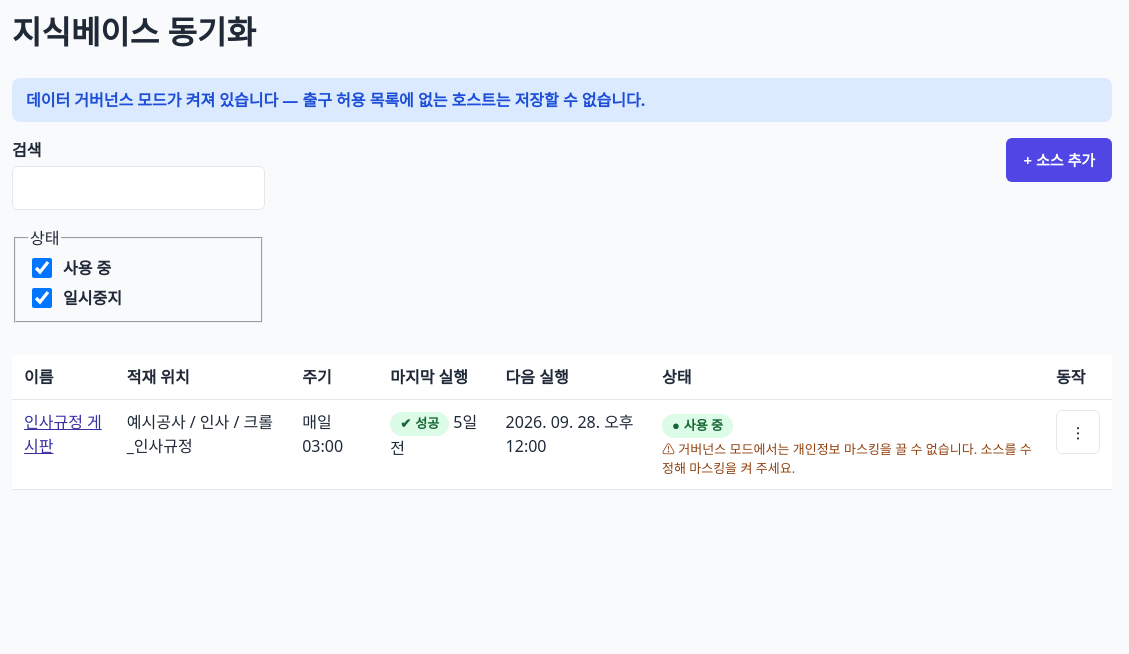
Scenario: KbSourcesPage › 거버넌스 위반 시 "지금 실행" 사전 비활성 › 거버넌스 ON + 마스킹 끔이면 비활성이고 보이는 사유 텍스트가 aria-describedby로 연결된다
What coordinates should you click on to do the following:
click the button named "관리"
I would click on:
 (1078, 432)
Its box is left=1056, top=410, right=1100, bottom=454.
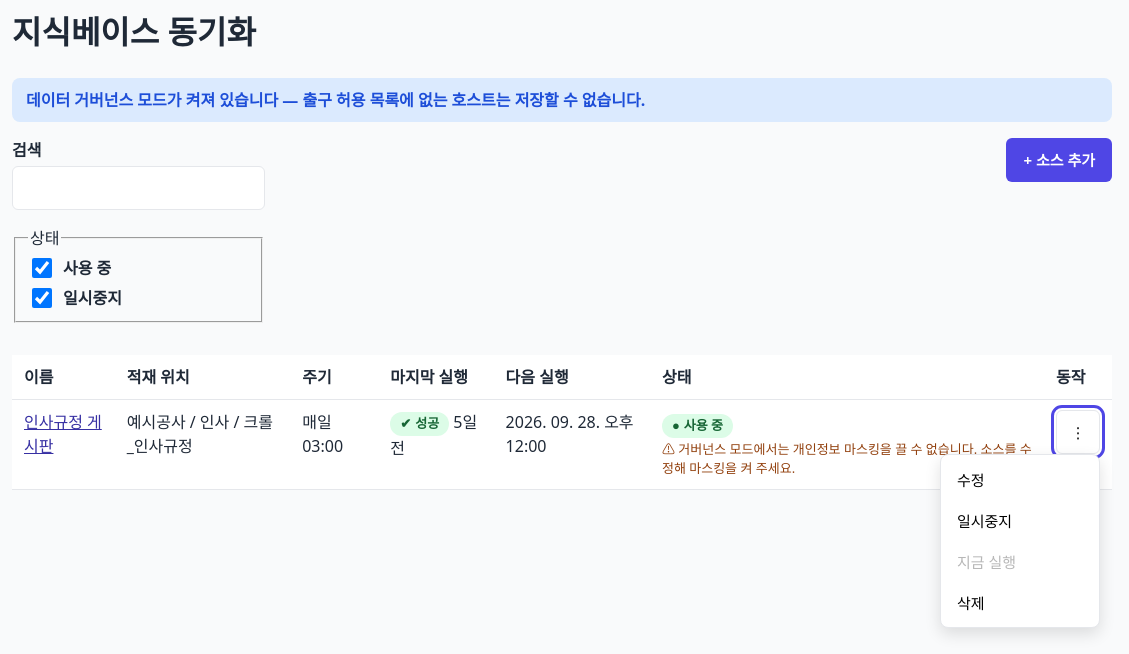
Expected: the text "⚠ 거버넌스 모드에서는 개인정보 마스킹을 끌 수 없습니다. 소스를 수정해 마스킹을 켜 주세요." is shown, left=662, top=440, right=1032, bottom=479
Expected: the menu item "지금 실행" is disabled, left=945, top=542, right=1095, bottom=582
